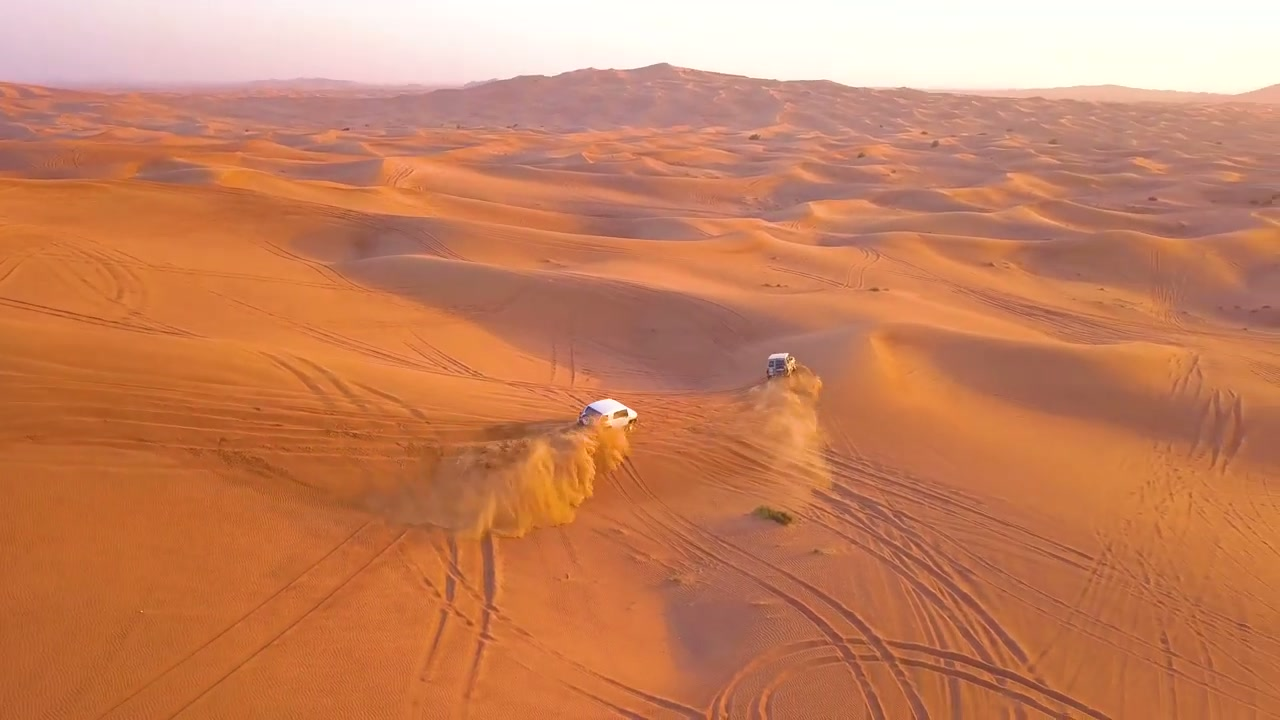vehicle_track: (621, 459, 928, 719), (1064, 352, 1266, 710), (97, 521, 402, 719), (799, 454, 1043, 682), (409, 538, 701, 719), (171, 529, 408, 719), (800, 491, 1028, 667), (925, 510, 1187, 661), (0, 353, 403, 439), (881, 254, 1152, 343), (206, 288, 456, 375), (0, 236, 199, 337), (886, 640, 1110, 719), (51, 235, 198, 336), (406, 536, 483, 717), (110, 248, 385, 294), (261, 351, 428, 423), (952, 285, 1150, 343), (400, 546, 460, 718), (311, 204, 466, 261), (0, 297, 193, 336), (463, 533, 500, 710), (257, 239, 365, 289), (1189, 389, 1245, 473), (260, 351, 335, 409), (402, 331, 487, 379), (557, 270, 670, 305), (352, 381, 429, 423), (1149, 250, 1186, 330), (413, 226, 467, 261), (768, 265, 844, 288), (844, 247, 881, 289), (0, 247, 38, 286), (1249, 360, 1279, 386)
